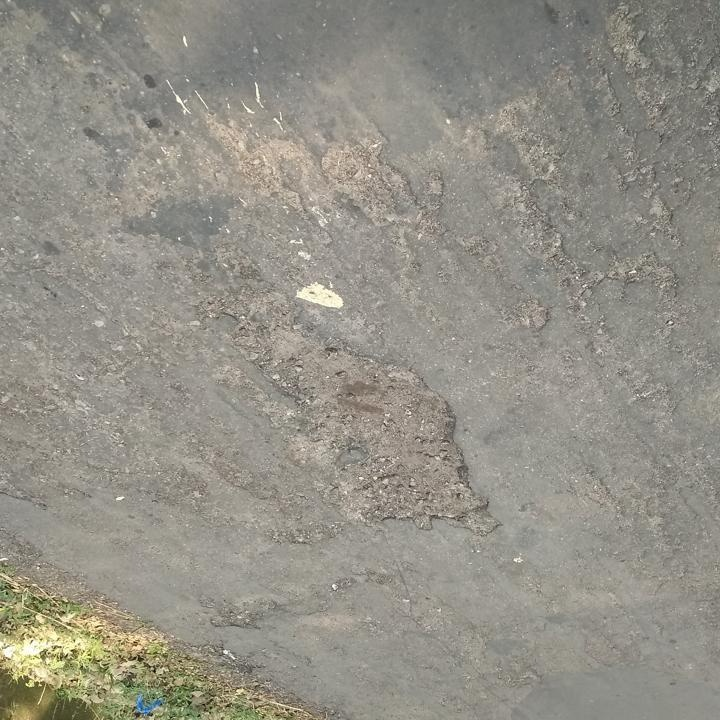pothole: (250, 325, 500, 539), (207, 598, 269, 635)
